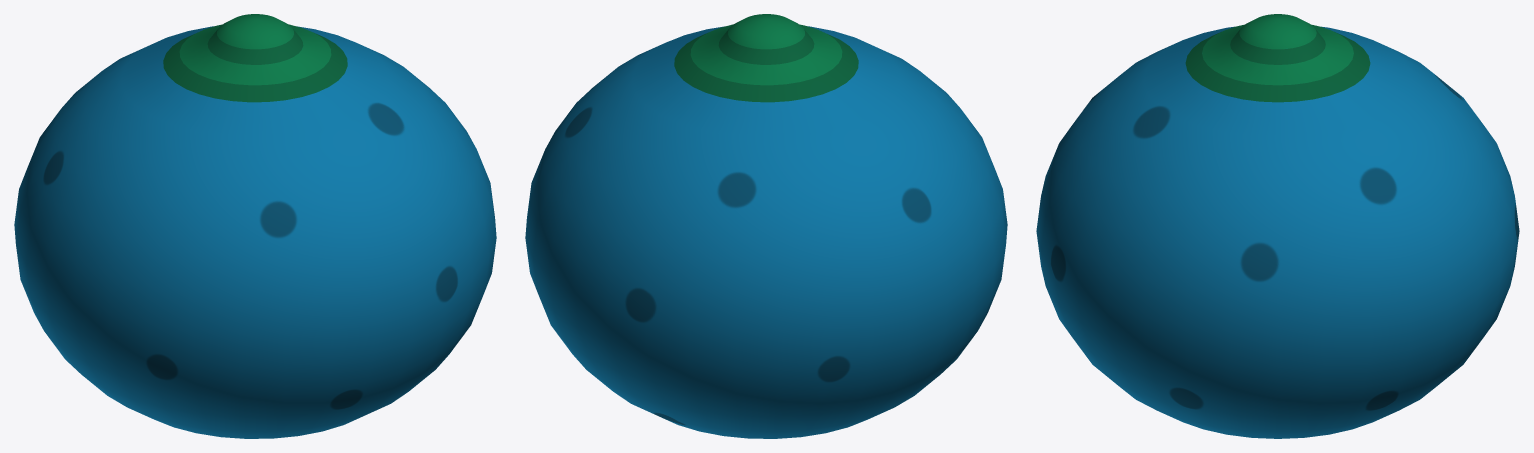
Rendered from Baccarancia.fbx.
The picture shows the model from 3 angles, left to right: view 1: azimuth 30°, elevation 25°; view 2: azimuth 150°, elevation 25°; view 3: azimuth 270°, elevation 25°; orthographic projection.
Parts seen in each view (by area): view 1: Baccarancia; view 2: Baccarancia; view 3: Baccarancia.
Part boxes in pixels (x1,y1,x2,y2): Baccarancia: (14, 14, 496, 438); Baccarancia: (525, 14, 1007, 438); Baccarancia: (1036, 14, 1519, 438).
Bounding box in the file's own units: 10.01 × 8.99 × 10.01.
1 material, 1 textured.
